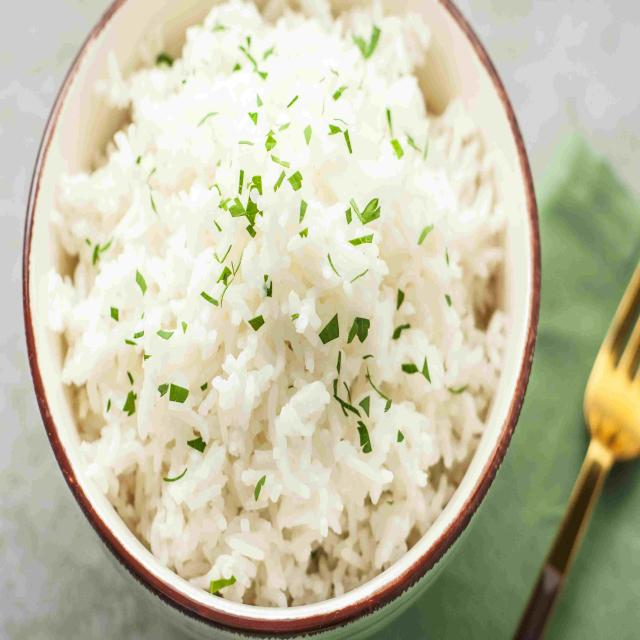Wet Waste: (37, 0, 522, 617)
